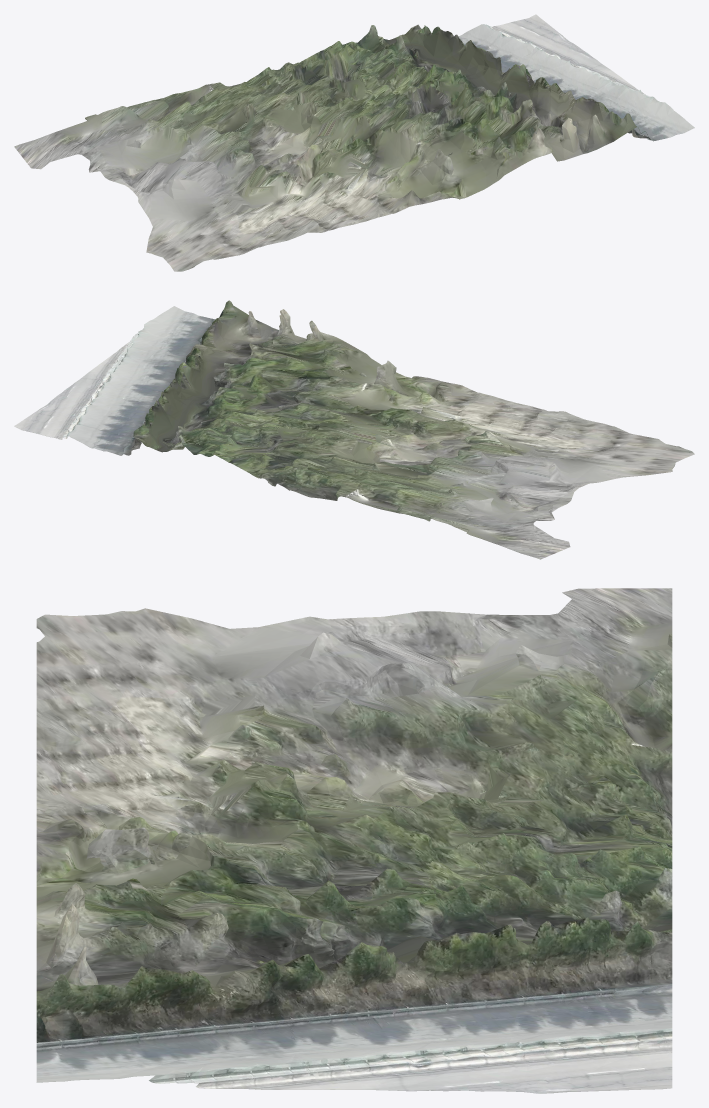
Rendered from Block_L19_31.glb.
3 views of the same model, one above another, from view 1: azimuth 30°, elevation 25°; view 2: azimuth 150°, elevation 25°; view 3: azimuth 270°, elevation 25° (orthographic). The views are drawn at different scales.
Parts seen in each view (by area): view 1: rtc; view 2: rtc; view 3: rtc.
Boxes of the visible parts, <box> form: rtc: <box>14,14,694,271</box>; rtc: <box>14,300,694,559</box>; rtc: <box>36,588,672,1093</box>.
Bounding box in the file's own units: 123 × 11.76 × 64.02.
Materials: 5 (5 with a texture image).
